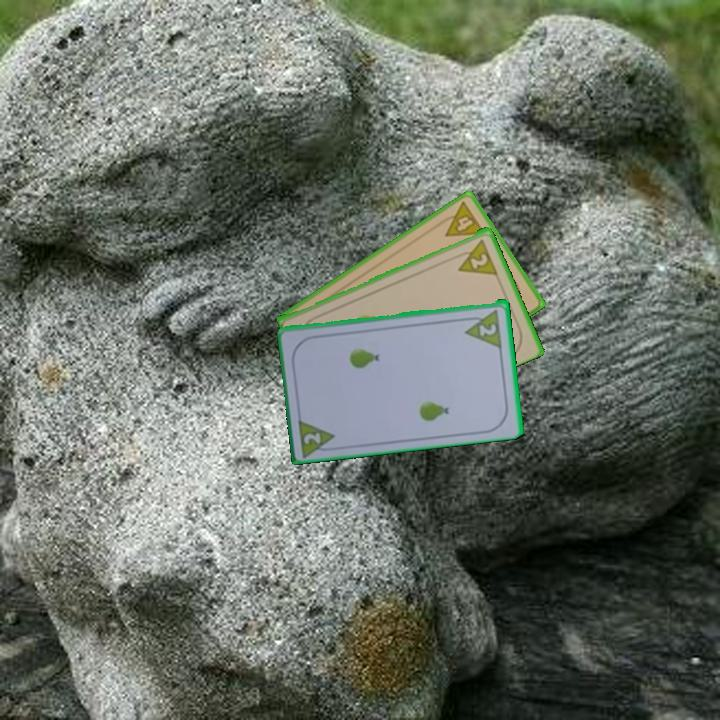2p: (295, 414, 340, 458), (461, 305, 505, 349), (467, 249, 491, 271)
4p: (434, 198, 488, 240)
